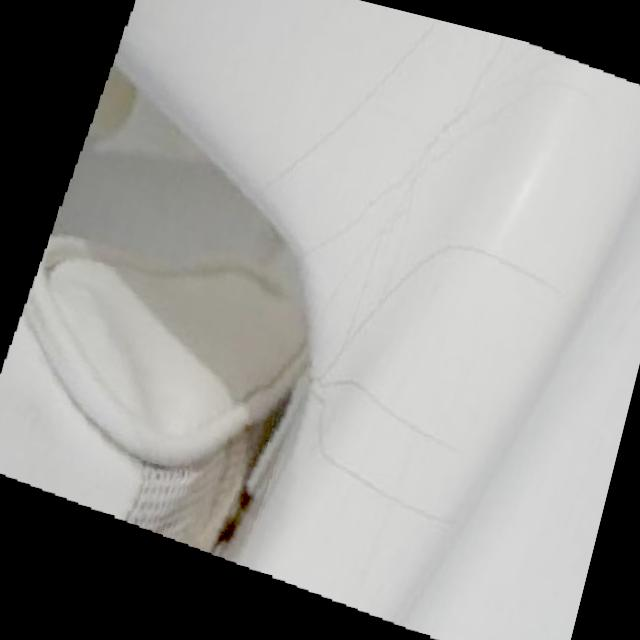crack: (310, 334, 492, 447), (441, 235, 572, 334), (290, 438, 422, 533)
